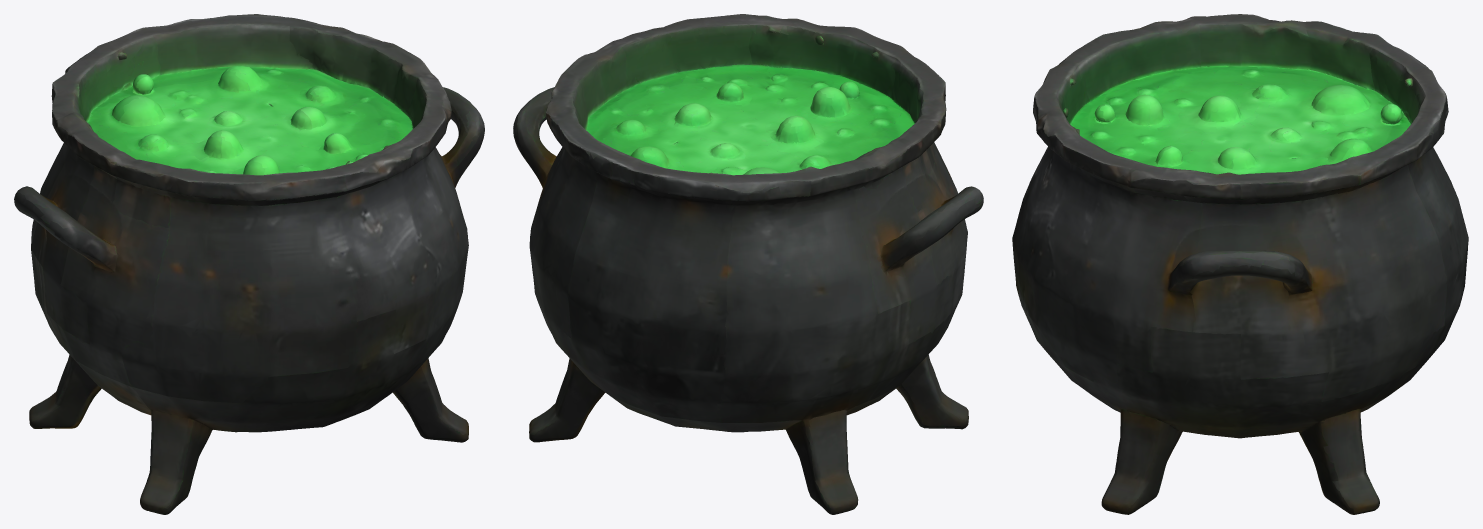
Rendered from cauldron.glb.
3 renders of one model, left to right at view 1: azimuth 30°, elevation 25°; view 2: azimuth 150°, elevation 25°; view 3: azimuth 270°, elevation 25°, orthographic. The views are drawn at different scales.
Visible parts, largest first — view 1: geometry_0; view 2: geometry_0; view 3: geometry_0.
Boxes of the visible parts, left/top/right/bottom form: geometry_0: left=14, top=14, right=484, bottom=514; geometry_0: left=513, top=14, right=983, bottom=514; geometry_0: left=1012, top=14, right=1468, bottom=514.
Size of the model in its own units: 0.6 by 0.4386 by 0.5331.
Materials: 1 (1 with a texture image).
